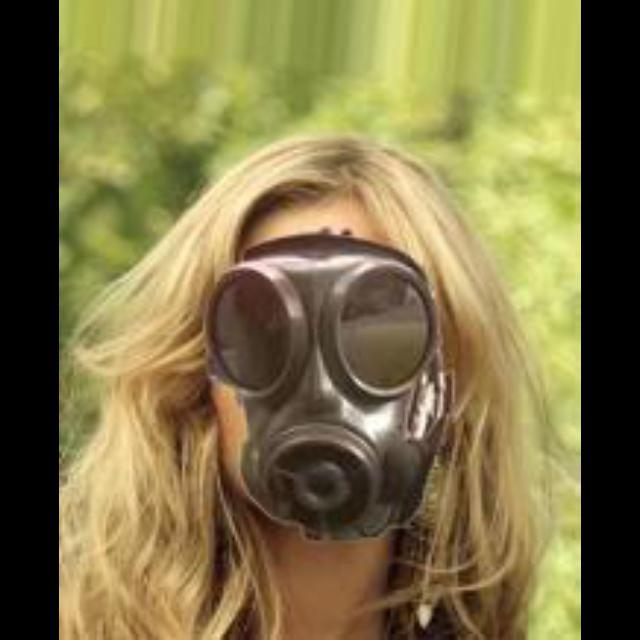suspicion: (178, 147, 528, 537)
